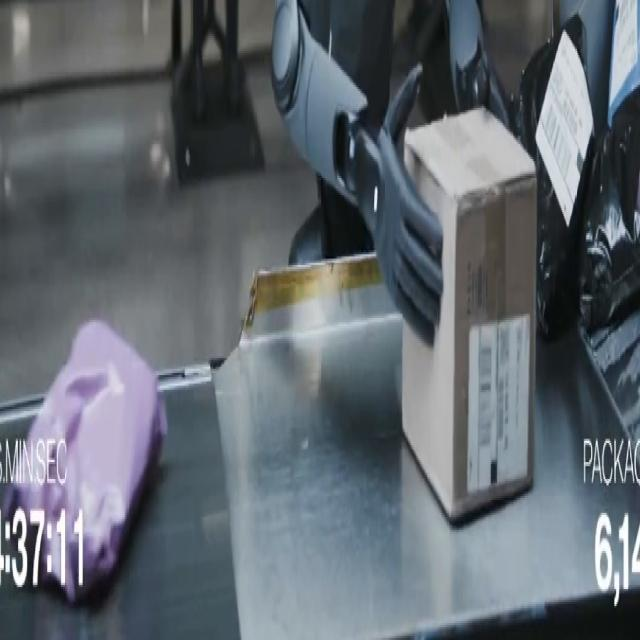package: (402, 109, 536, 521), (3, 323, 167, 603), (513, 15, 593, 339), (580, 87, 639, 332), (608, 0, 639, 127)
